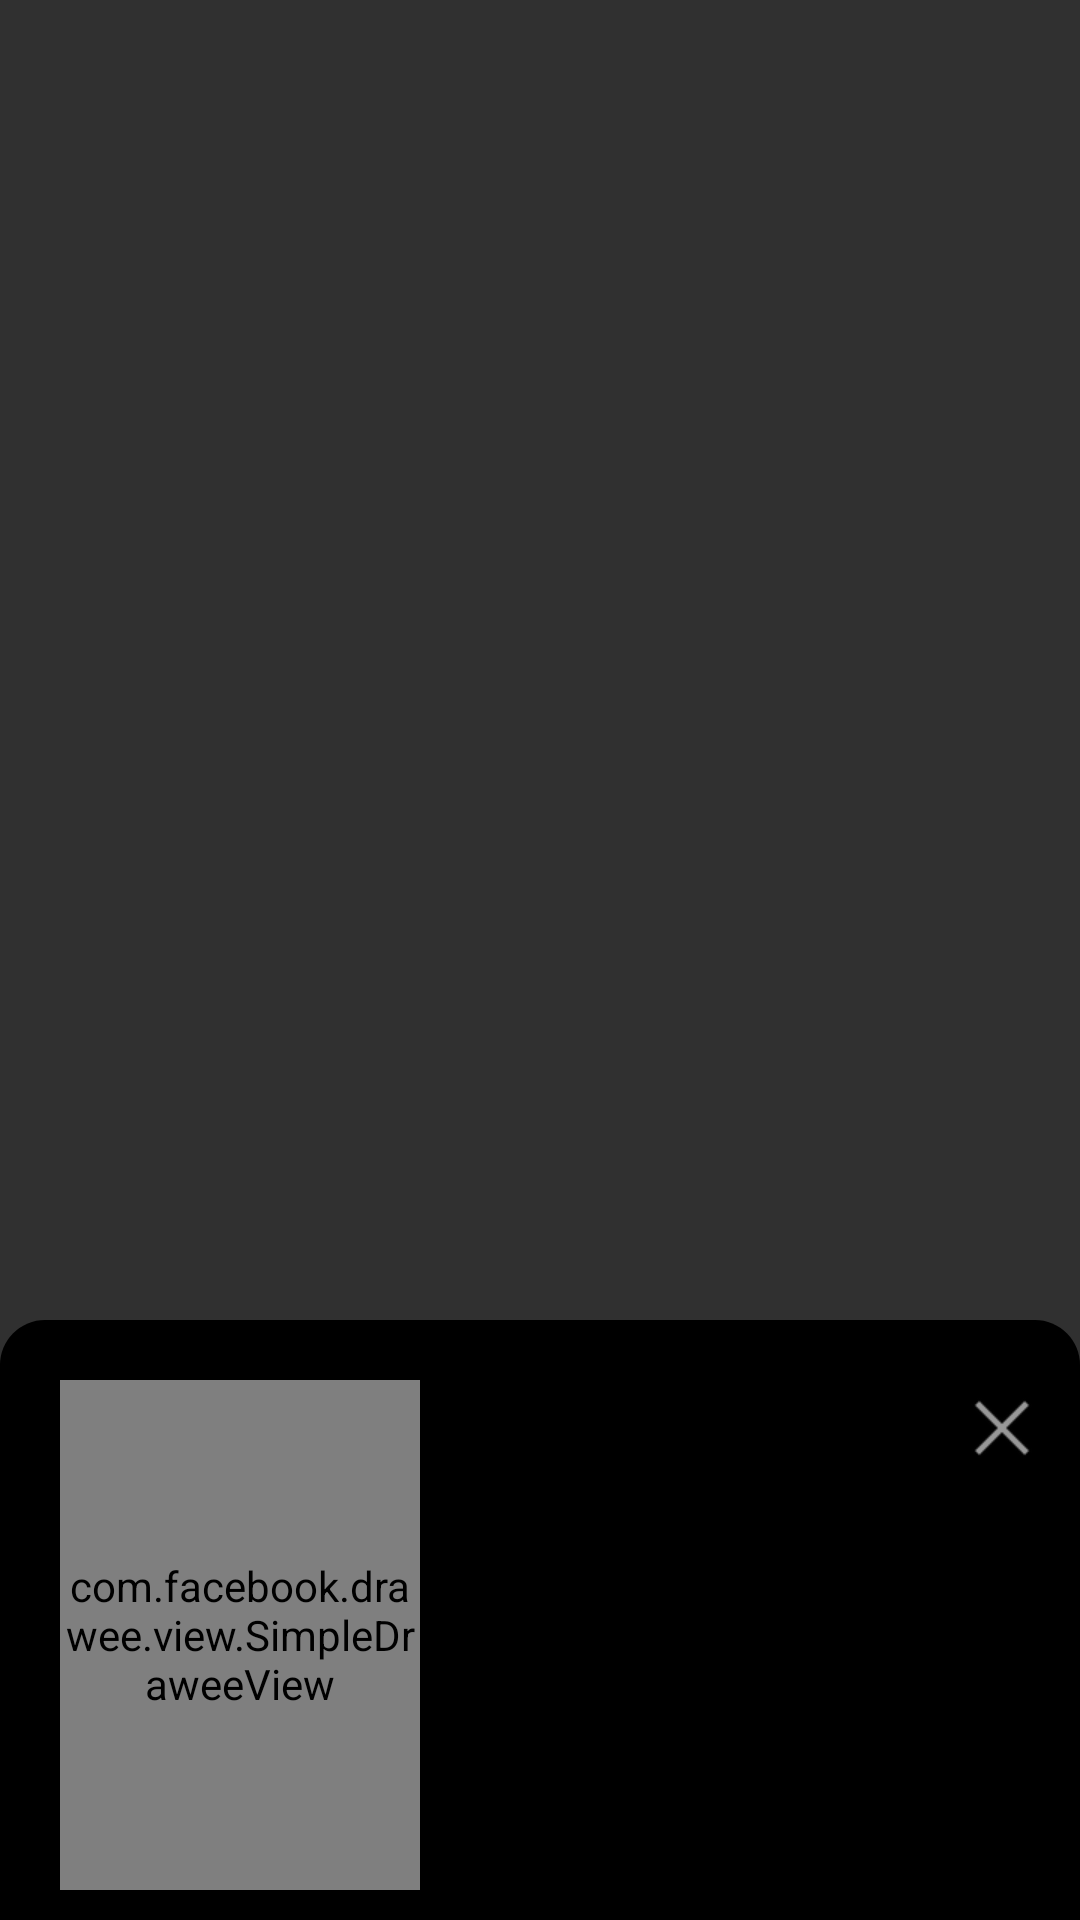

Where icons sit on this 1080 x 1920 app screen, as [left=x1, top=y1, right=x2, bottom=y2]:
close clear cancel: [left=975, top=1401, right=1029, bottom=1455]
